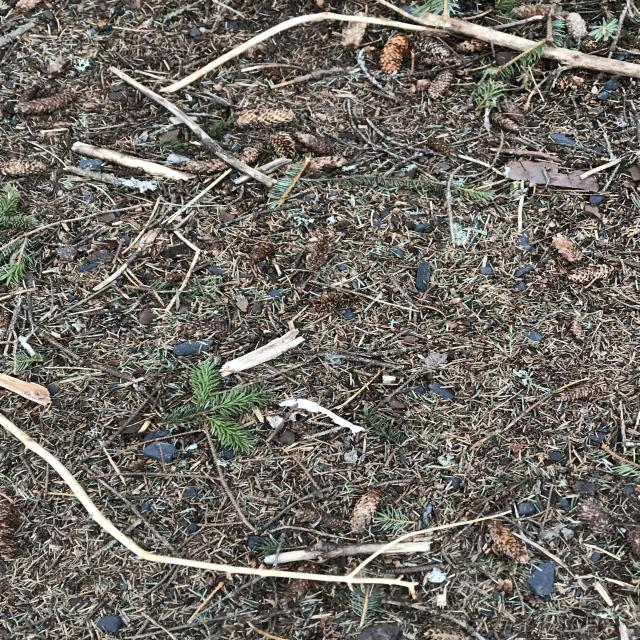litter: (279, 399, 366, 436)
